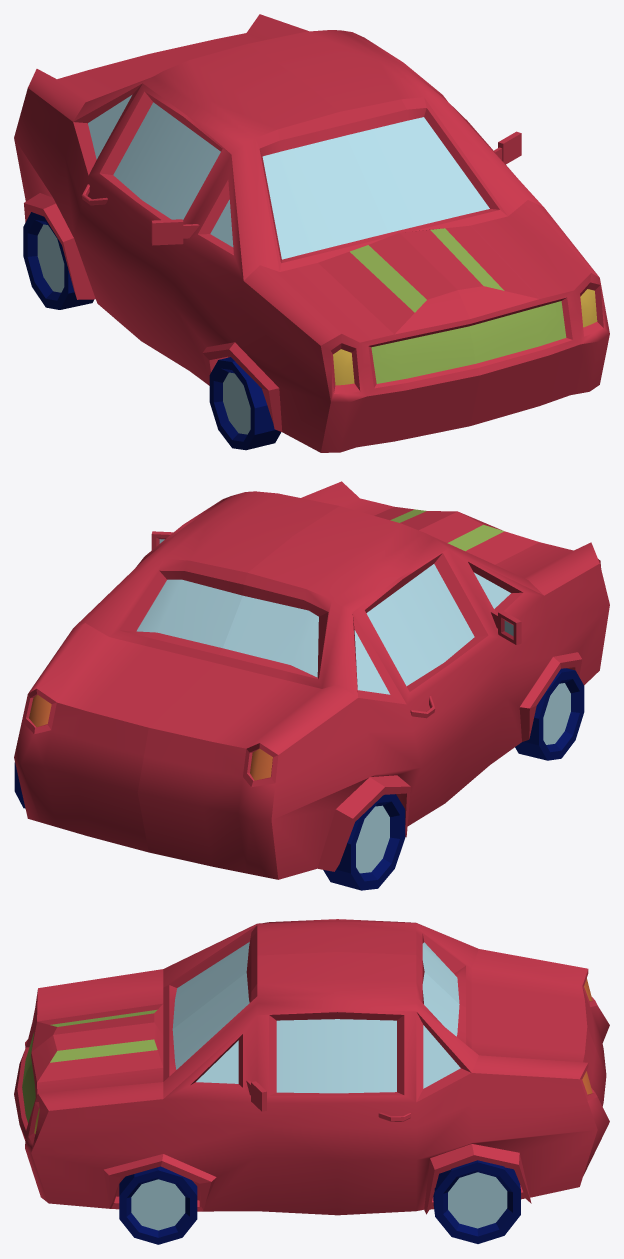
Rendered from RedCar.fbx.
3 renders of one model, top to bottom at view 1: azimuth 30°, elevation 25°; view 2: azimuth 150°, elevation 25°; view 3: azimuth 270°, elevation 25°, orthographic. The views are drawn at different scales.
Parts seen in each view (by area): view 1: Body, pCylinder4, pCylinder3, Mirror1, Mirror; view 2: Body, pCylinder3, pCylinder4, Mirror1; view 3: Body, pCylinder2, pCylinder1.
Boxes of the visible parts, x1,y1,x2,y2 form: Body: (14, 14, 609, 452); pCylinder4: (209, 357, 281, 450); pCylinder3: (23, 212, 94, 309); Mirror1: (151, 219, 199, 245); Mirror: (494, 131, 521, 164); Body: (14, 481, 609, 879); pCylinder3: (323, 794, 405, 890); pCylinder4: (515, 668, 584, 760); Mirror1: (491, 610, 521, 644); Body: (14, 919, 609, 1215); pCylinder2: (433, 1160, 520, 1243); pCylinder1: (119, 1166, 197, 1244).
Size of the model in its own units: 3.68 by 2.46 by 5.95.
